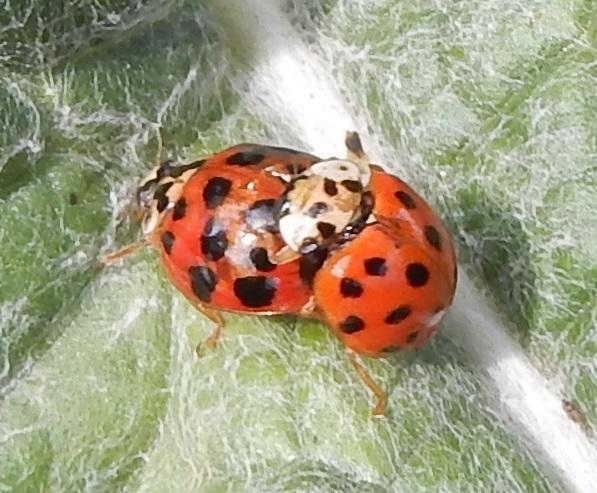ladybug: (254, 130, 461, 417), (102, 142, 332, 360)
